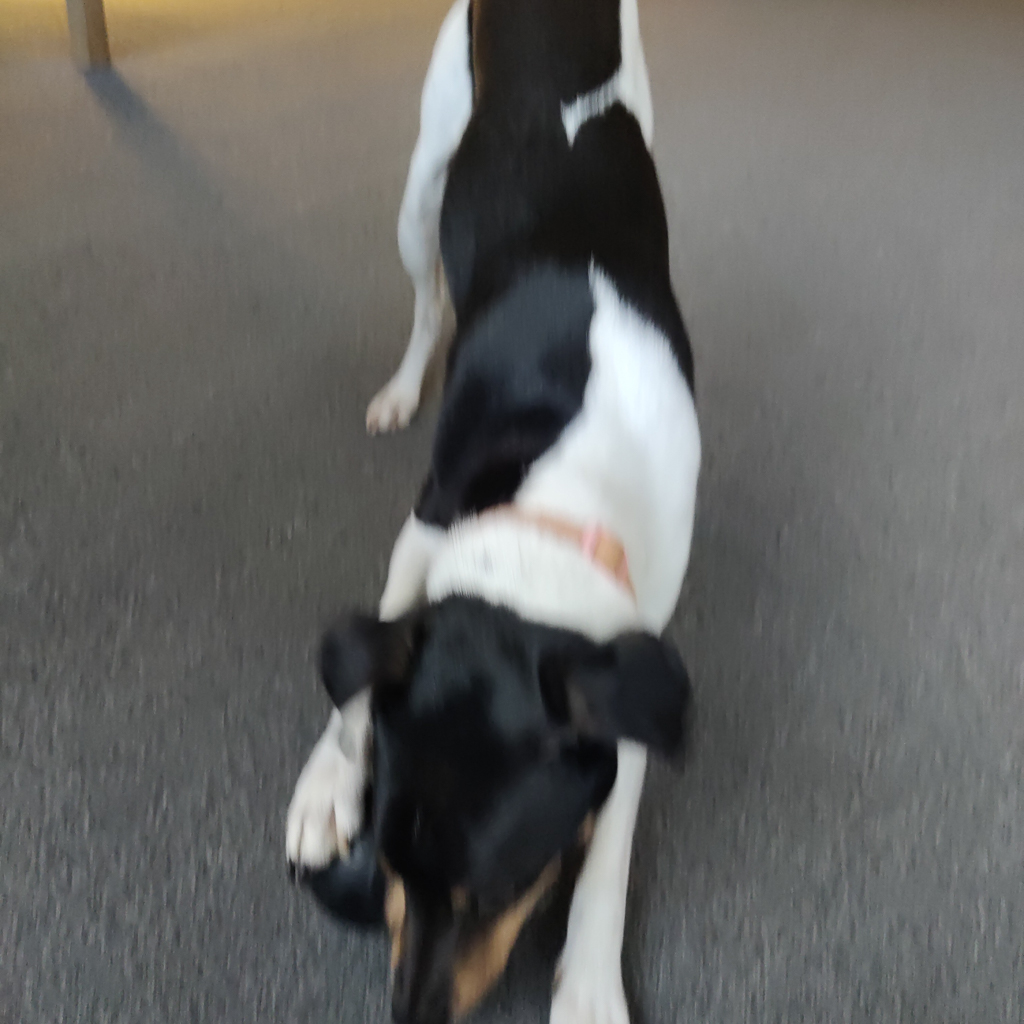Dog: (279, 0, 721, 1024)
